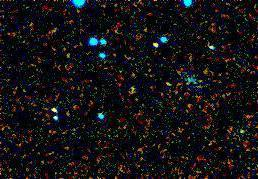star: (139, 31, 169, 61)
